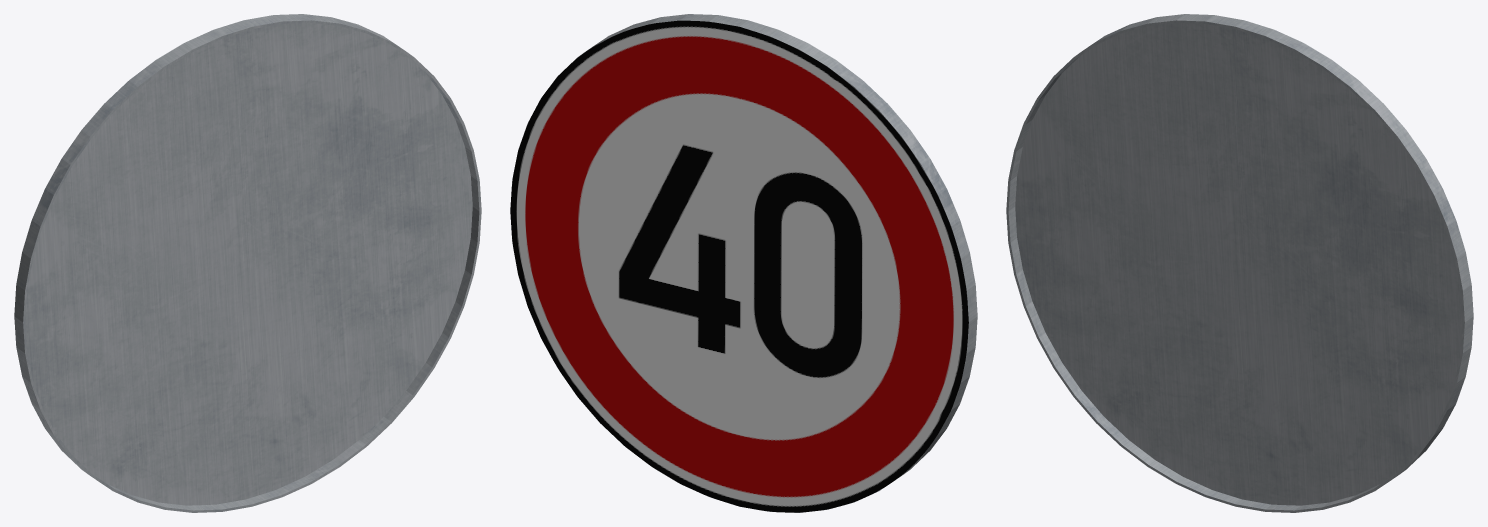
Rendered from Speed_limit_40kmh.fbx.
3 renders of one model, left to right at view 1: azimuth 30°, elevation 25°; view 2: azimuth 150°, elevation 25°; view 3: azimuth 330°, elevation 25°, orthographic.
Parts seen in each view (by area): view 1: Speed limit 40kmh; view 2: Speed limit 40kmh; view 3: Speed limit 40kmh.
Part boxes in pixels (bbox=[...]): Speed limit 40kmh: bbox=[14, 14, 481, 512]; Speed limit 40kmh: bbox=[510, 14, 977, 512]; Speed limit 40kmh: bbox=[1006, 14, 1473, 512].
Size of the model in its own units: 0.02 by 0.6 by 0.6.
